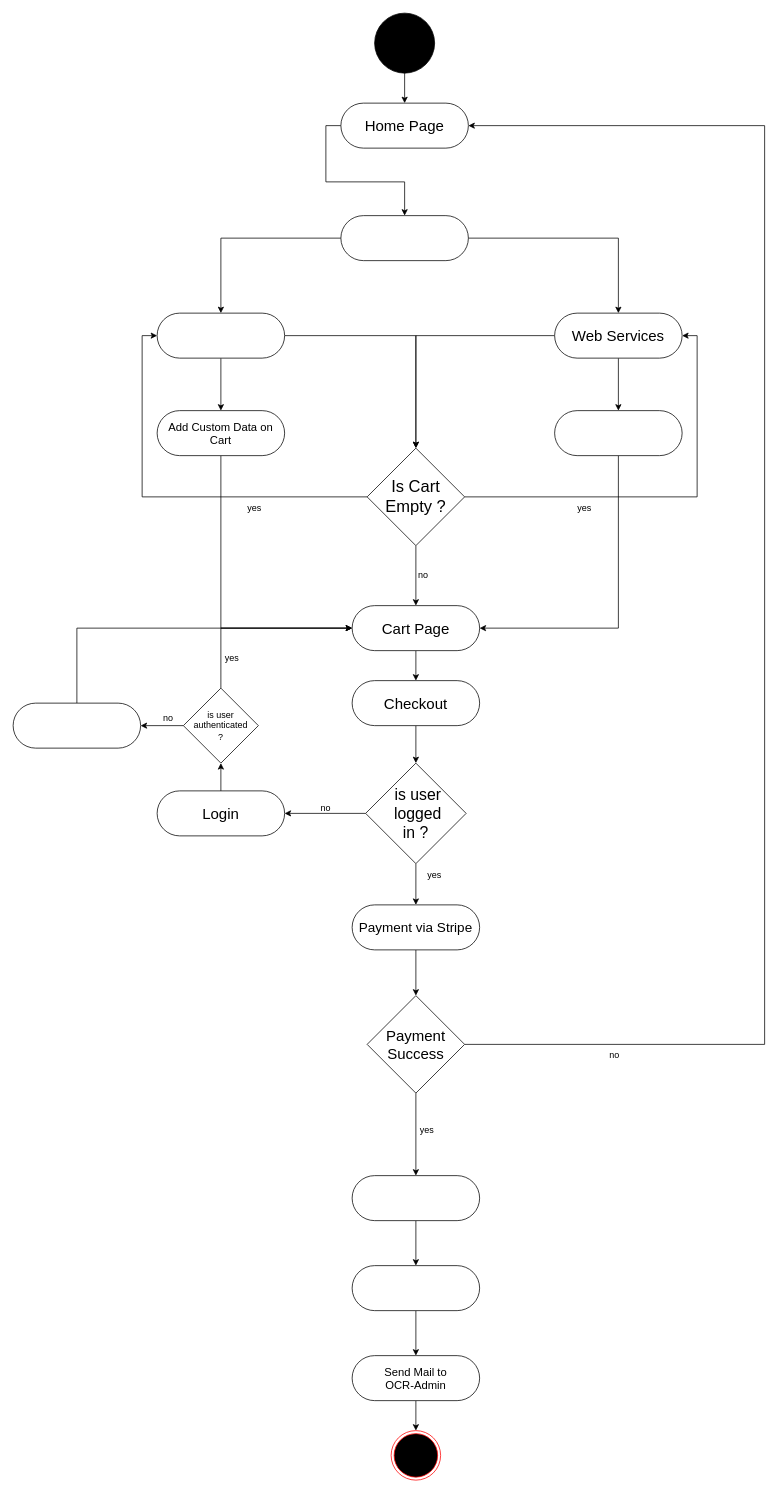
The diagram is 784 pixels wide and 1493 high, and some of its shapes have lost their labels. The centre of each missing label's shape, as x and y in pixels:
"Add Web Service on Cart" goes at point (618, 433).
"Browse the Products" goes at point (404, 238).
"Custom Data" goes at point (220, 335).
"Generate Invoice" goes at point (415, 1198).
"Register" goes at point (76, 725).
"Send Order Confirmation Mail" goes at point (415, 1288).
